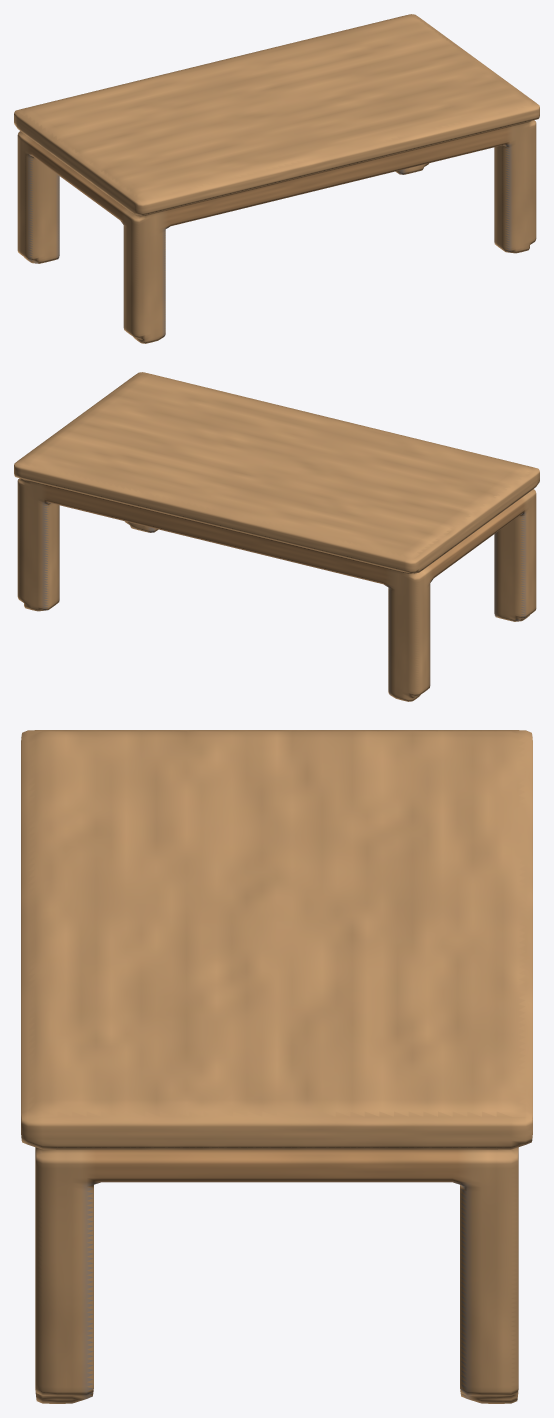
The model's file is stack3.glb.
3 renders of one model, top to bottom at view 1: azimuth 30°, elevation 25°; view 2: azimuth 150°, elevation 25°; view 3: azimuth 270°, elevation 25°, orthographic. The views are drawn at different scales.
Size of the model in its own units: 1.16 by 0.41 by 0.64.
Materials: 1 (1 with a texture image).
